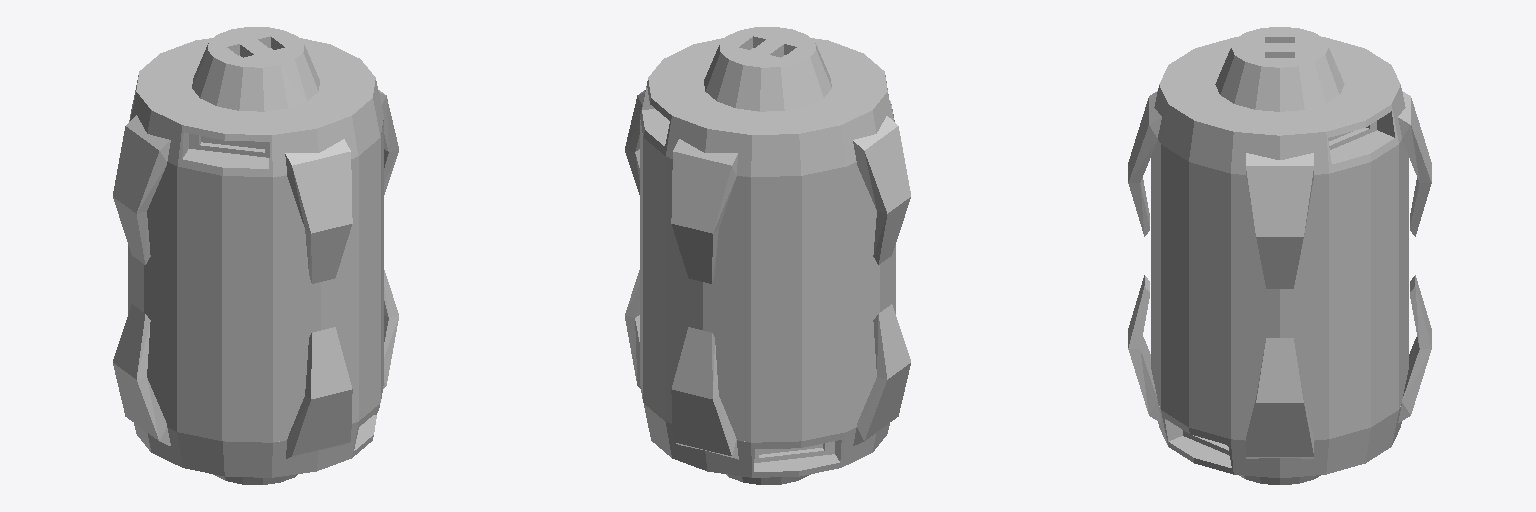
File: Core_V_LARGE.obj
The picture shows the model from 3 angles: view 1: azimuth 30°, elevation 25°; view 2: azimuth 150°, elevation 25°; view 3: azimuth 270°, elevation 25°; orthographic projection.
Parts seen in each view (by area): view 1: Core_V_Core_V_Mesh, Core_V_Glass_Core_V_Glass_Mesh; view 2: Core_V_Core_V_Mesh, Core_V_Glass_Core_V_Glass_Mesh; view 3: Core_V_Glass_Core_V_Glass_Mesh, Core_V_Core_V_Mesh.
Boxes of the visible parts, box(x1,y1,x2,y2) form: Core_V_Core_V_Mesh: box(113, 27, 398, 484); Core_V_Glass_Core_V_Glass_Mesh: box(128, 114, 383, 442); Core_V_Core_V_Mesh: box(625, 27, 910, 484); Core_V_Glass_Core_V_Glass_Mesh: box(640, 114, 895, 442); Core_V_Glass_Core_V_Glass_Mesh: box(1151, 140, 1408, 440); Core_V_Core_V_Mesh: box(1128, 27, 1431, 484).
Bounding box in the file's own units: 2.13 × 3.23 × 2.13.